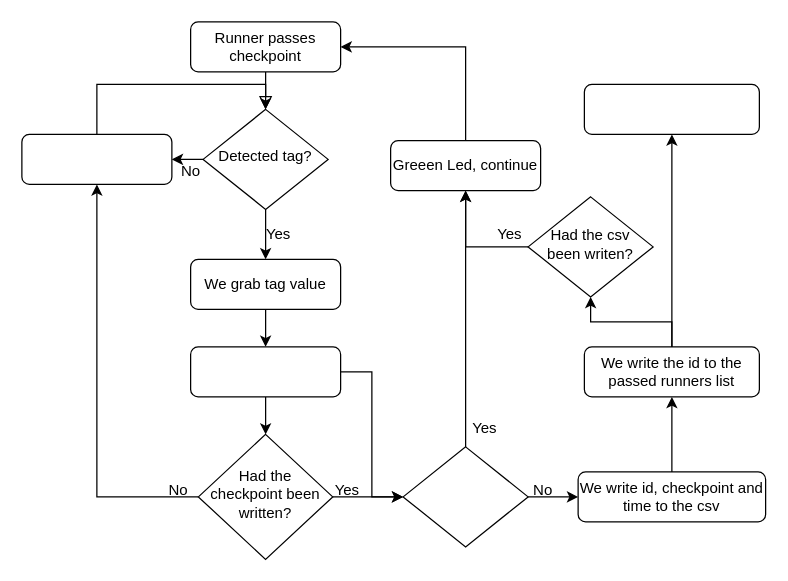
Some shapes in this 788 by 581 pixel diagram are drawn without their labels. The box of each missing label's shape, as (x1, y1, x2, y2) in pixels:
Has the id already passed?: (402, 446, 528, 547)
He send data to server with POST: (583, 83, 759, 134)
Red Led, error: (21, 133, 172, 184)
We write the checkpoint to the tag: (189, 346, 341, 397)
